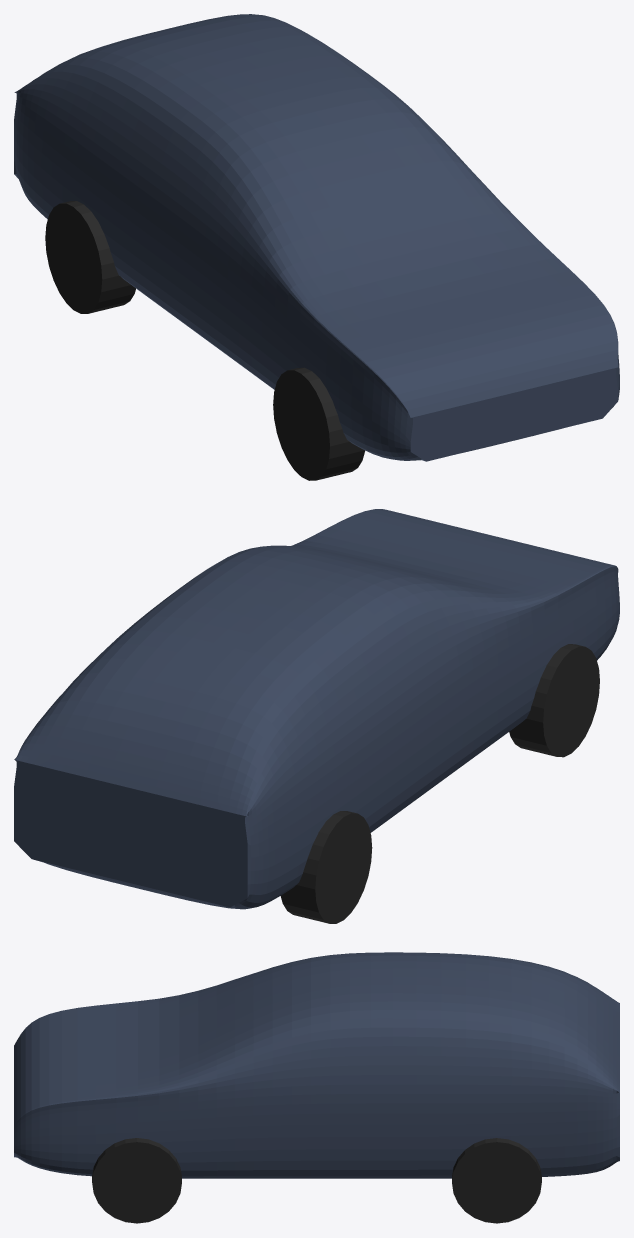
Rendered from durango_base.glb.
The picture shows the model from 3 angles, top to bottom: view 1: azimuth 30°, elevation 25°; view 2: azimuth 150°, elevation 25°; view 3: azimuth 270°, elevation 25°; orthographic projection. The views are drawn at different scales.
Visible parts, largest first — view 1: Body, Wheel, Wheel.001; view 2: Body, Wheel.001, Wheel; view 3: Body, Wheel.002, Wheel.003.
Boxes of the visible parts, box(x1,y1,x2,y2) form: Body: box(14, 14, 619, 461); Wheel: box(273, 367, 364, 480); Wheel.001: box(45, 201, 135, 313); Body: box(14, 509, 619, 909); Wheel.001: box(280, 811, 372, 923); Wheel: box(509, 644, 599, 757); Body: box(14, 952, 619, 1178); Wheel.002: box(92, 1138, 181, 1223); Wheel.003: box(452, 1138, 541, 1223).
Bounding box in the file's own units: 2.08 × 1.82 × 5.12.
